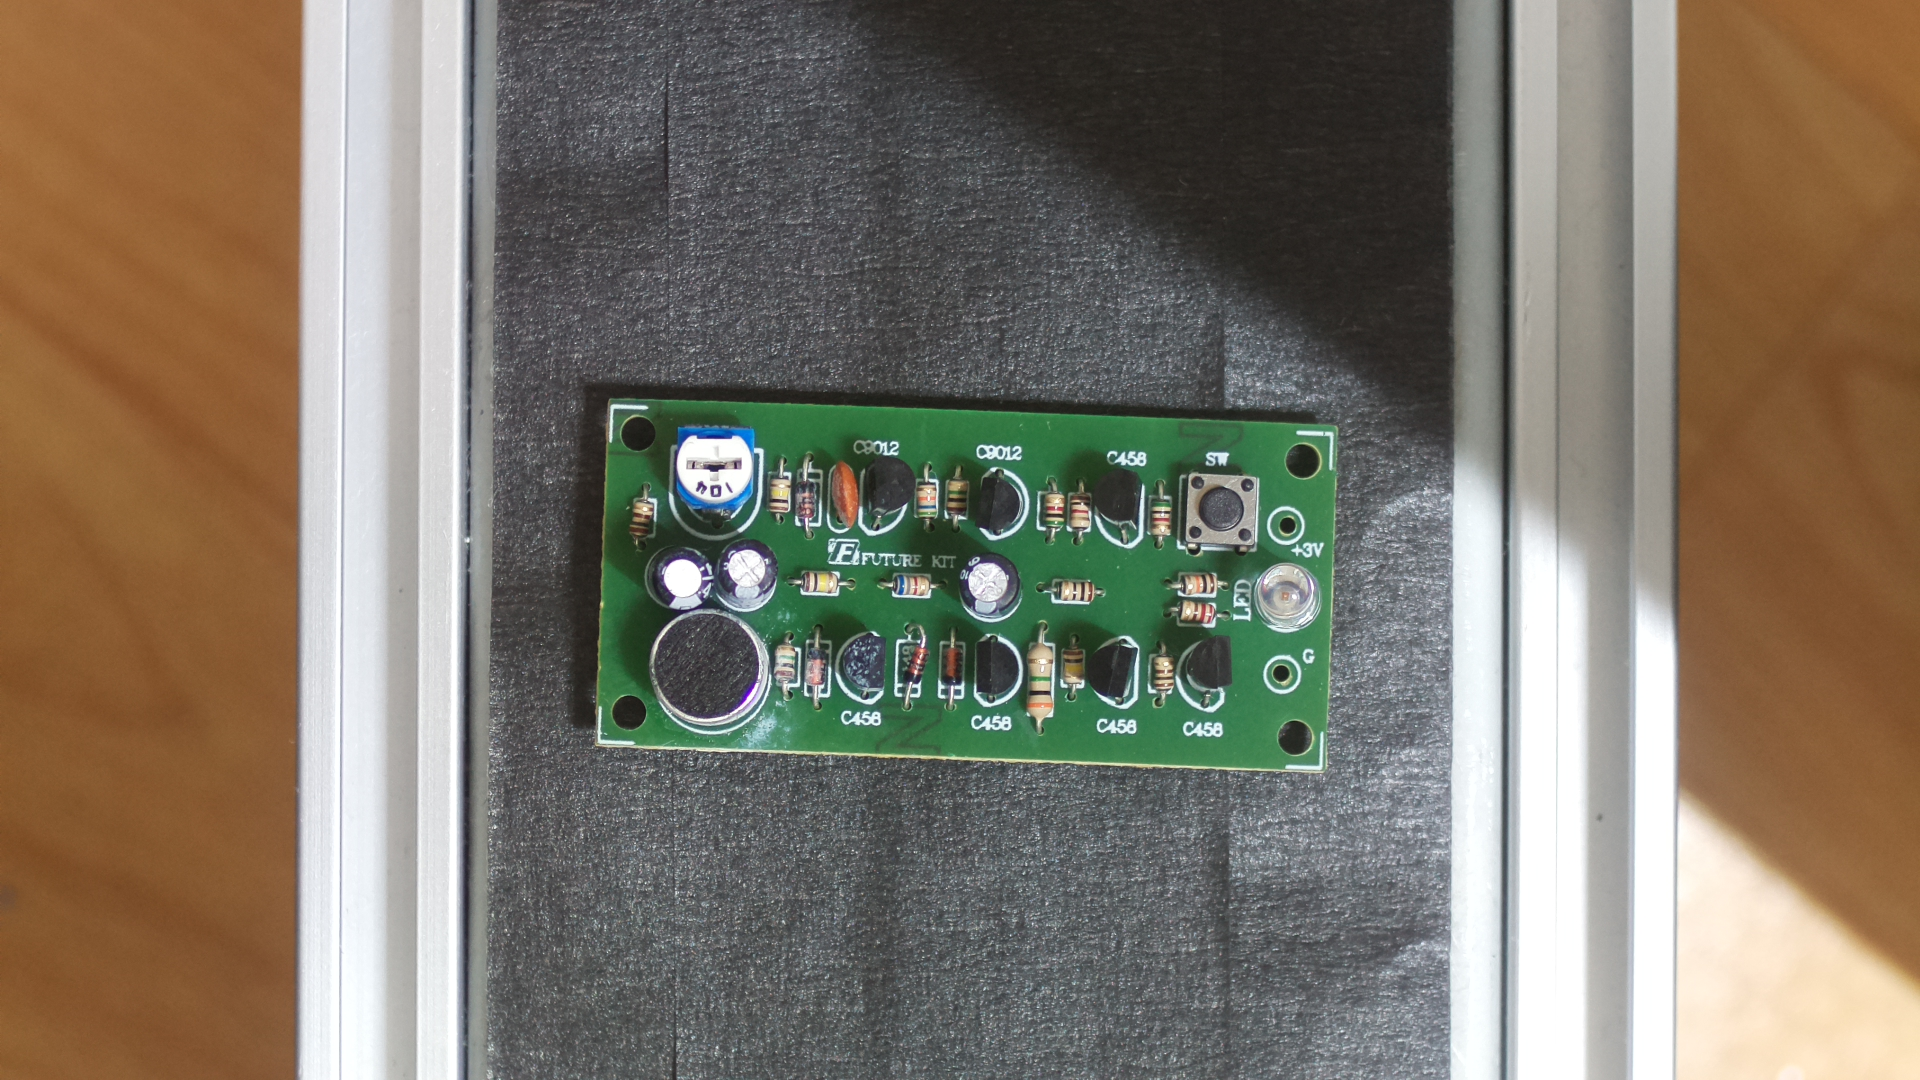A_Normal: (601, 386, 1342, 787)
